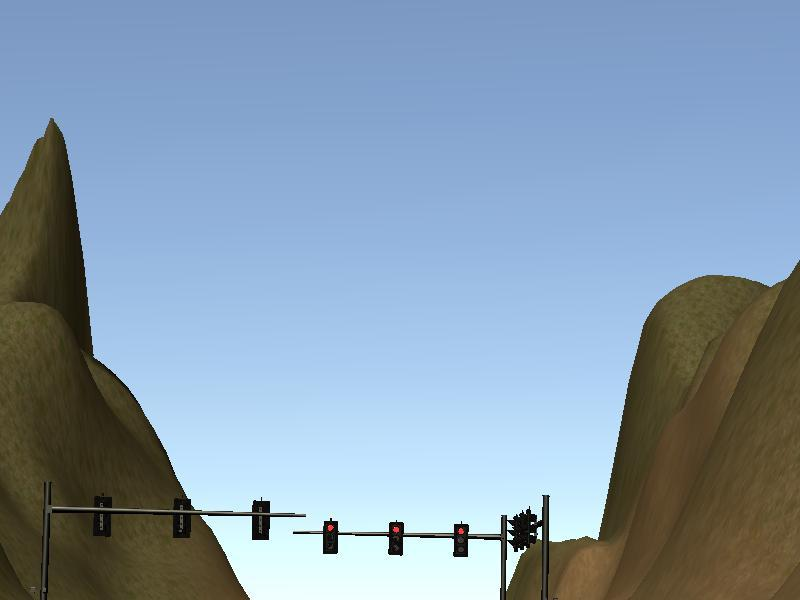Red: (324, 522, 337, 552), (455, 524, 467, 553), (391, 522, 402, 551)
